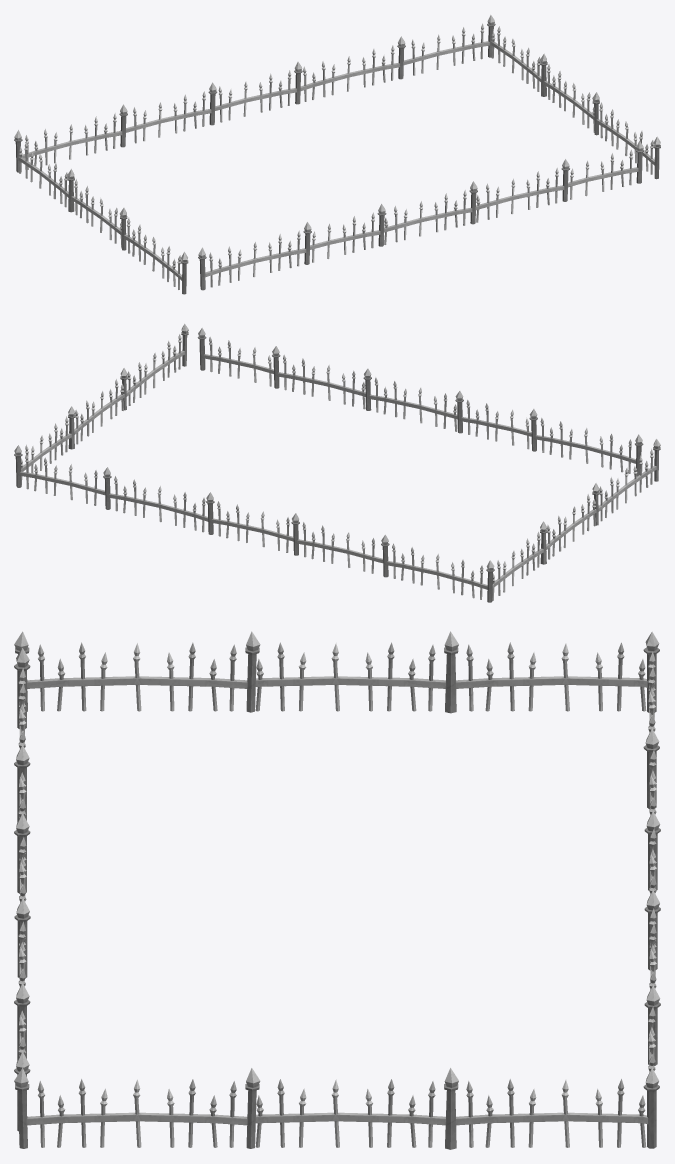
The model's file is obj_fence_alt.gltf.
3 renders of one model, top to bottom at view 1: azimuth 30°, elevation 25°; view 2: azimuth 150°, elevation 25°; view 3: azimuth 270°, elevation 25°, orthographic. The views are drawn at different scales.
Visible parts, largest first — view 1: obj_fence_alt; view 2: obj_fence_alt; view 3: obj_fence_alt.
Part boxes in pixels (<box>): obj_fence_alt: <box>14,15,660,294</box>; obj_fence_alt: <box>14,323,660,602</box>; obj_fence_alt: <box>14,631,660,1149</box>.
Size of what is drawn, in the model's own units: 15.9 by 1.33 by 9.8.
Materials: 1 (1 with a texture image).
